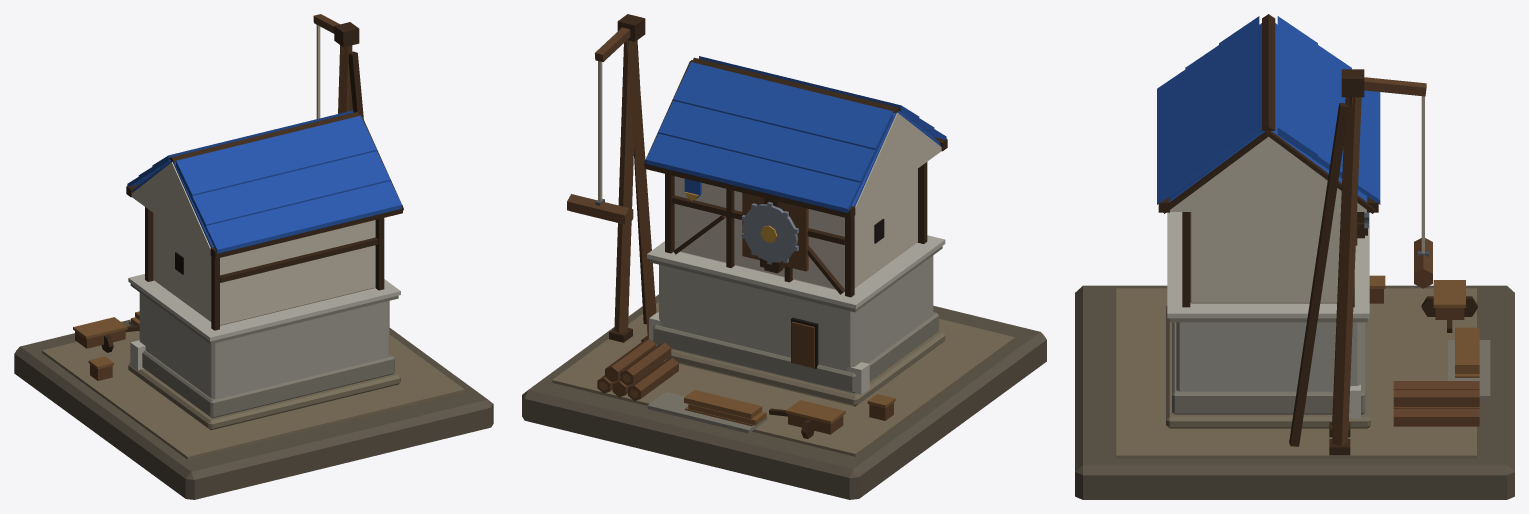
Rendered from 伐木场_3星.glb.
The picture shows the model from 3 angles, left to right: view 1: azimuth 30°, elevation 25°; view 2: azimuth 150°, elevation 25°; view 3: azimuth 270°, elevation 25°; orthographic projection. The views are drawn at different scales.
Visible parts, largest first — view 1: 伐木场_3星; view 2: 伐木场_3星; view 3: 伐木场_3星.
Part boxes in pixels (x1=…): 伐木场_3星: x1=14, y1=14, x2=493, y2=499; 伐木场_3星: x1=522, y1=14, x2=1046, y2=499; 伐木场_3星: x1=1075, y1=14, x2=1514, y2=499.
Size of the model in its own units: 1 by 1.01 by 1.
